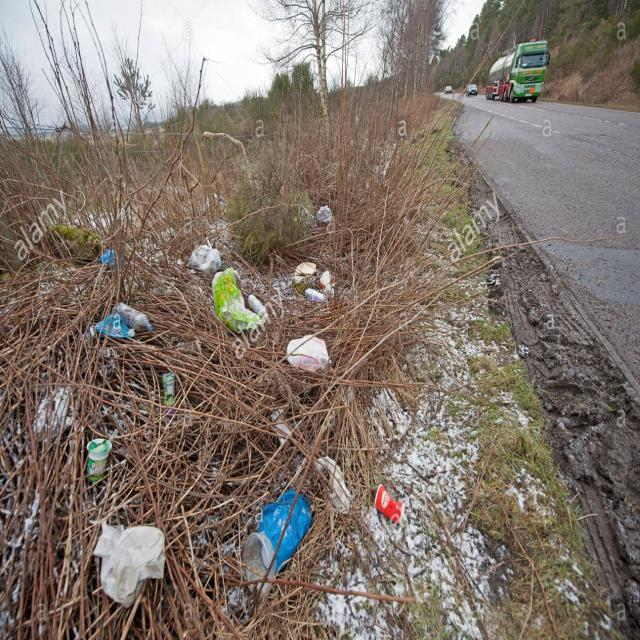garbage: (0, 136, 531, 640)
